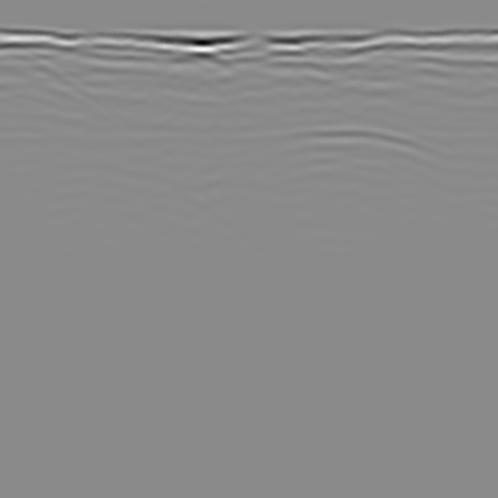hyperbola: (201, 116, 468, 211)
